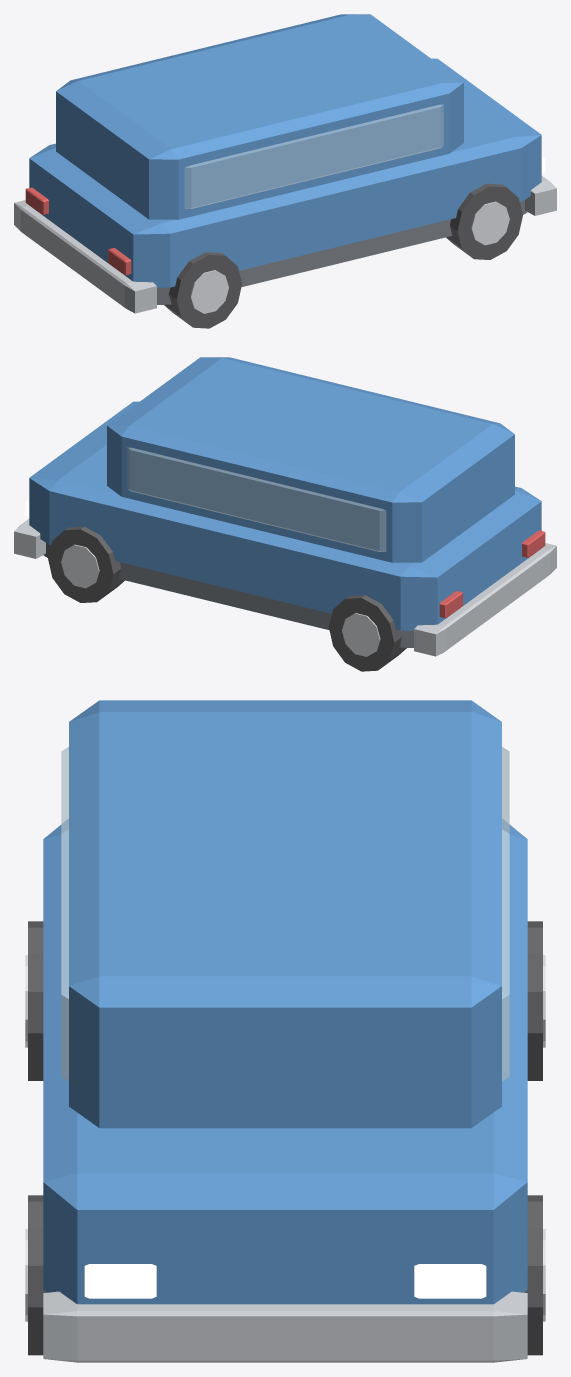
File: b03_three_door_city_hatchback.glb
3 views of the same model, one above another, from view 1: azimuth 30°, elevation 25°; view 2: azimuth 150°, elevation 25°; view 3: azimuth 270°, elevation 25° (orthographic). The views are drawn at different scales.
Parts seen in each view (by area): view 1: b03_three_door_city_hatchback; view 2: b03_three_door_city_hatchback; view 3: b03_three_door_city_hatchback.
Boxes of the visible parts, left/top/right/bottom form: b03_three_door_city_hatchback: left=14, top=14, right=556, bottom=328; b03_three_door_city_hatchback: left=14, top=357, right=556, bottom=671; b03_three_door_city_hatchback: left=25, top=700, right=545, bottom=1362.
Bounding box in the file's own units: 3.88 × 1.49 × 2.05.
